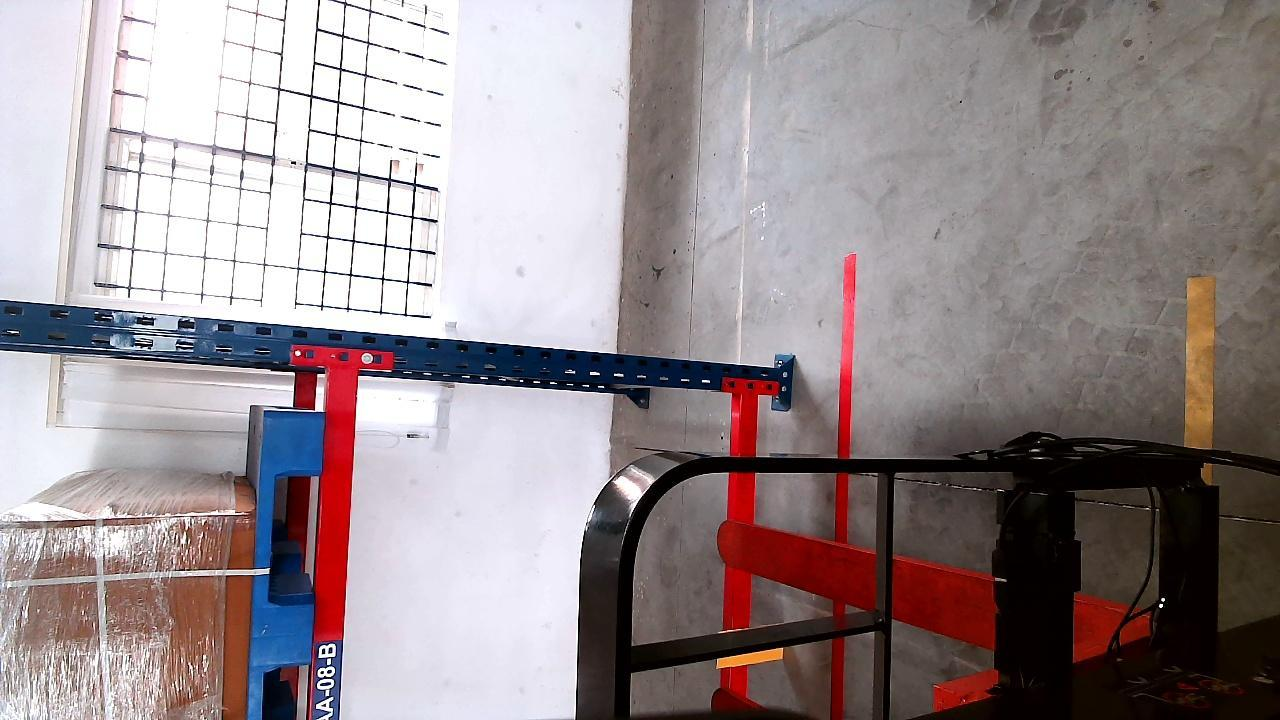red_line: (836, 256, 857, 542)
